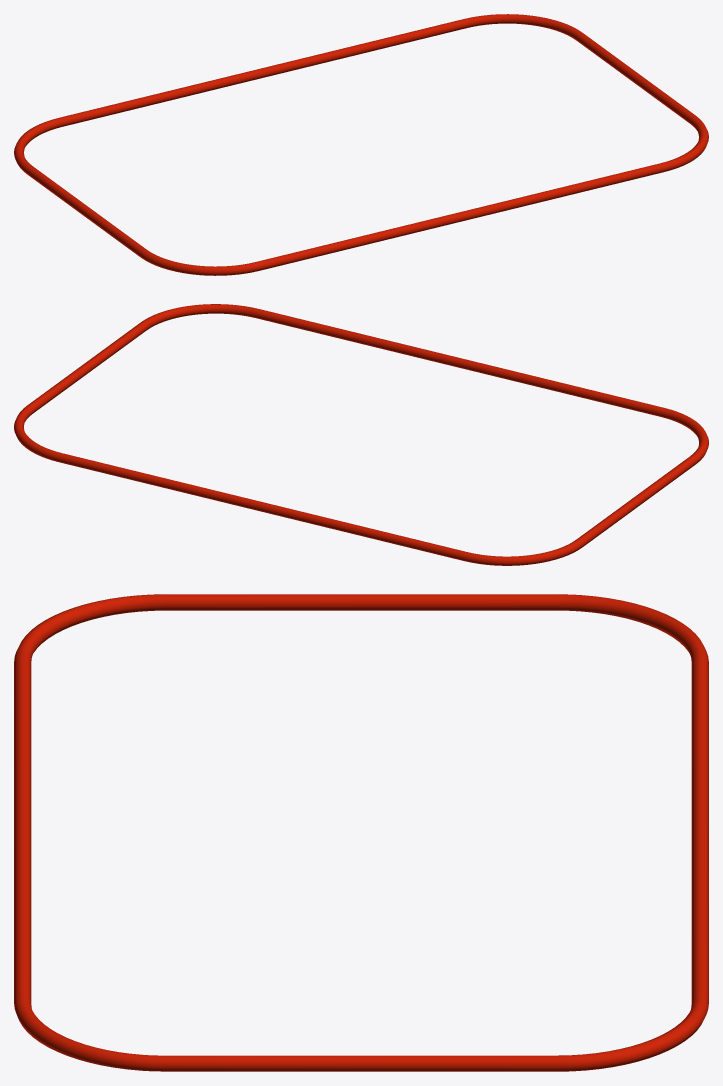
File: cable_1.fbx
The picture shows the model from 3 angles, top to bottom: view 1: azimuth 30°, elevation 25°; view 2: azimuth 150°, elevation 25°; view 3: azimuth 270°, elevation 25°; orthographic projection. The views are drawn at different scales.
Parts seen in each view (by area): view 1: Sweep; view 2: Sweep; view 3: Sweep.
Boxes of the visible parts, x1,y1,x2,y2 form: Sweep: (14,14,708,275); Sweep: (14,304,708,565); Sweep: (14,594,708,1071).
Bounding box in the file's own units: 179 × 2.78 × 112.
